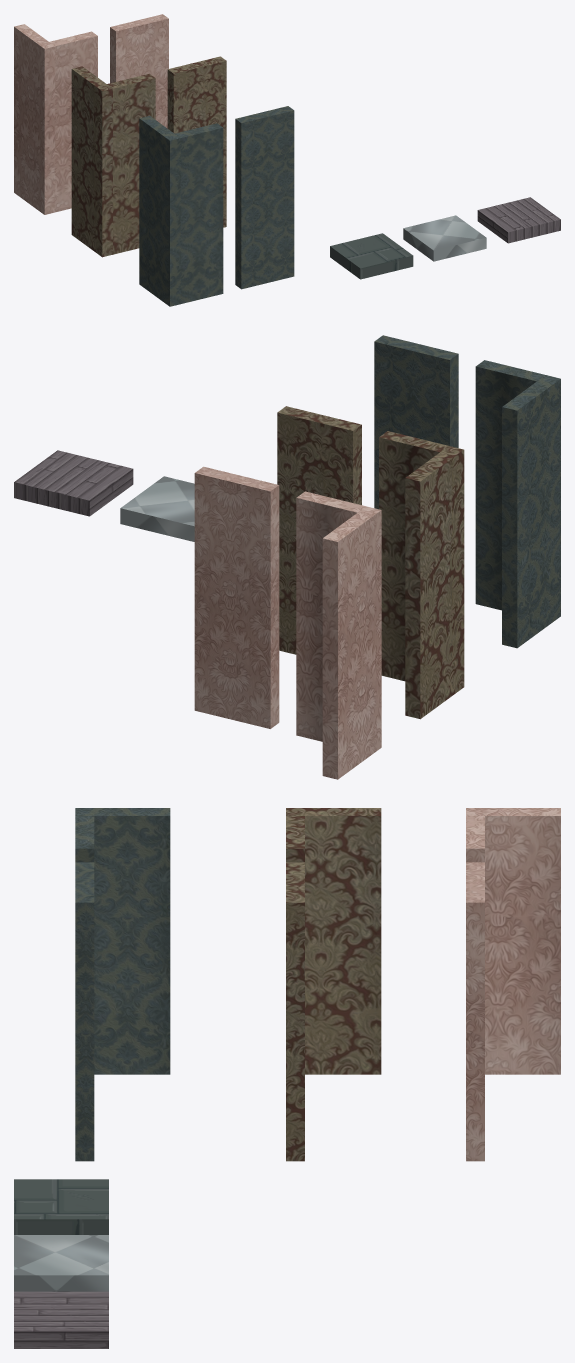
File: MOD_Murs_Sols.FBX
3 views of the same model, one above another, from view 1: azimuth 30°, elevation 25°; view 2: azimuth 150°, elevation 25°; view 3: azimuth 270°, elevation 25° (orthographic). The views are drawn at different scales.
Parts seen in each view (by area): view 1: Mur_01_Angle, Mur_02_Angle, Mur_03_Angle, Mur_01_Plat, Mur_02_Plat, Mur_03_Plat, Dalle_Pierre, Dalle_Lino, Dalle_Bois; view 2: Mur_03_Angle, Mur_01_Angle, Mur_02_Angle, Mur_03_Plat, Mur_02_Plat, Mur_01_Plat, Dalle_Bois, Dalle_Lino; view 3: Mur_01_Angle, Mur_02_Angle, Mur_03_Angle, Mur_01_Plat, Mur_02_Plat, Mur_03_Plat, Dalle_Bois, Dalle_Lino, Dalle_Pierre.
Boxes of the visible parts, left/top/right/bottom form: Mur_01_Angle: left=139, top=116, right=223, bottom=306; Mur_02_Angle: left=71, top=66, right=155, bottom=257; Mur_03_Angle: left=14, top=24, right=97, bottom=214; Mur_01_Plat: left=235, top=106, right=294, bottom=289; Mur_02_Plat: left=167, top=56, right=226, bottom=227; Mur_03_Plat: left=110, top=14, right=168, bottom=128; Dalle_Pierre: left=330, top=233, right=413, bottom=279; Dalle_Lino: left=403, top=215, right=486, bottom=261; Dalle_Bois: left=477, top=197, right=560, bottom=243; Mur_03_Angle: left=296, top=491, right=381, bottom=779; Mur_01_Angle: left=475, top=360, right=560, bottom=648; Mur_02_Angle: left=379, top=431, right=464, bottom=719; Mur_03_Plat: left=194, top=466, right=279, bottom=728; Mur_02_Plat: left=277, top=406, right=361, bottom=654; Mur_01_Plat: left=374, top=335, right=458, bottom=509; Dalle_Bois: left=14, top=450, right=133, bottom=516; Dalle_Lino: left=120, top=476, right=194, bottom=541; Mur_01_Angle: left=75, top=808, right=170, bottom=1074; Mur_02_Angle: left=286, top=808, right=381, bottom=1074; Mur_03_Angle: left=466, top=808, right=560, bottom=1074; Mur_01_Plat: left=75, top=862, right=94, bottom=1161; Mur_02_Plat: left=286, top=862, right=304, bottom=1161; Mur_03_Plat: left=466, top=862, right=484, bottom=1161; Dalle_Bois: left=14, top=1291, right=108, bottom=1348; Dalle_Lino: left=14, top=1235, right=108, bottom=1291; Dalle_Pierre: left=14, top=1179, right=108, bottom=1234.
Bounding box in the file's own units: 702 × 300 × 575.
